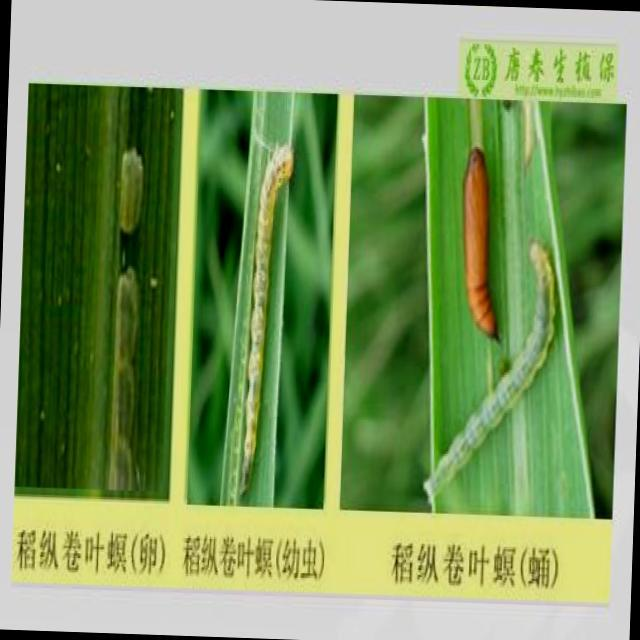leaf folder: (424, 242, 555, 507), (240, 143, 292, 491), (464, 146, 497, 338), (101, 435, 153, 499), (114, 266, 141, 360), (110, 358, 135, 442), (119, 148, 142, 234)
